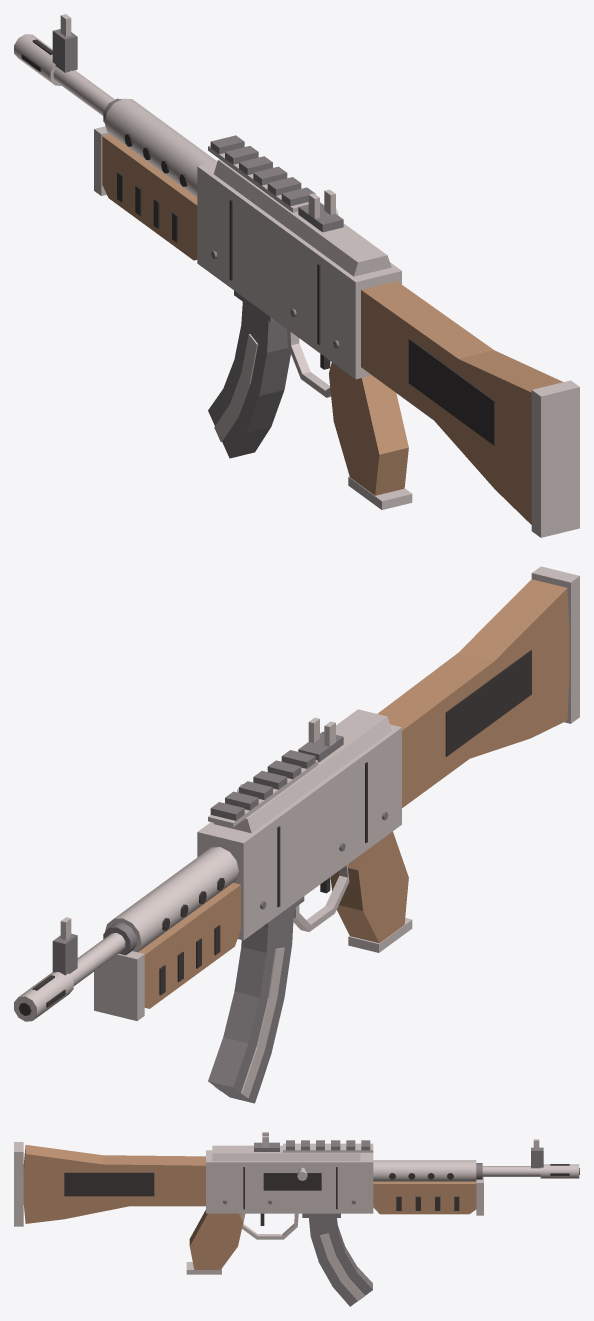
The model's file is assault_rifle_assembled.glb.
3 views of the same model, one above another, from view 1: azimuth 30°, elevation 25°; view 2: azimuth 150°, elevation 25°; view 3: azimuth 270°, elevation 25° (orthographic). The views are drawn at different scales.
Parts seen in each view (by area): view 1: stock, receiver, handguard, grip, magazine, barrel, rear_sight; view 2: receiver, stock, handguard, magazine, grip, barrel, rear_sight; view 3: receiver, stock, handguard, magazine, grip, barrel, rear_sight.
Part boxes in pixels (box(x1,y1,x2,y2)): stock: box(361, 281, 579, 537); receiver: box(197, 135, 401, 397); handguard: box(94, 98, 216, 260); grip: box(329, 362, 412, 509); magazine: box(208, 302, 290, 458); barrel: box(14, 14, 121, 122); rear_sight: box(298, 189, 343, 232); receiver: box(197, 709, 401, 940); stock: box(377, 566, 579, 807); handguard: box(94, 847, 240, 1020); magazine: box(208, 909, 293, 1103); grip: box(330, 831, 412, 952); barrel: box(14, 917, 136, 1021); rear_sight: box(298, 717, 343, 762); receiver: box(206, 1140, 373, 1239); stock: box(14, 1142, 205, 1226); handguard: box(373, 1160, 483, 1215); magazine: box(309, 1218, 372, 1306); grip: box(186, 1210, 243, 1274); barrel: box(476, 1139, 579, 1179); rear_sight: box(254, 1132, 279, 1151).
Size of the model in its own units: 0.0682 by 0.2895 by 0.8792.
